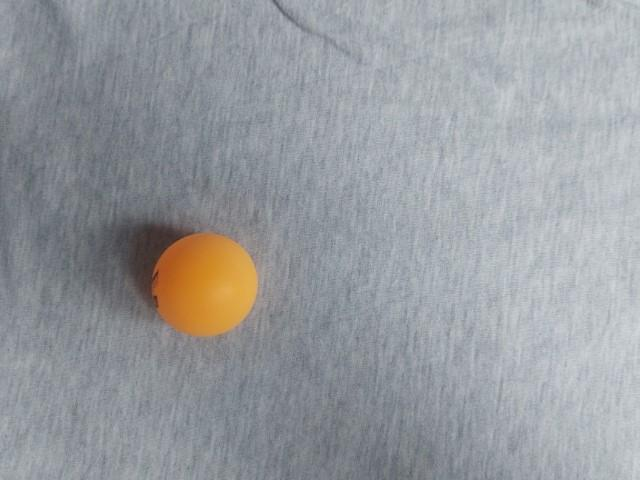oball: (373, 138, 493, 255)
